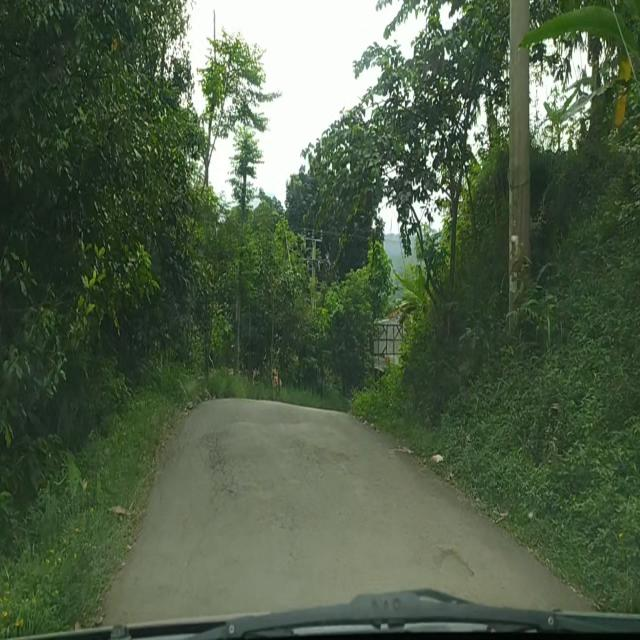Drain Hole: (193, 415, 239, 501)
